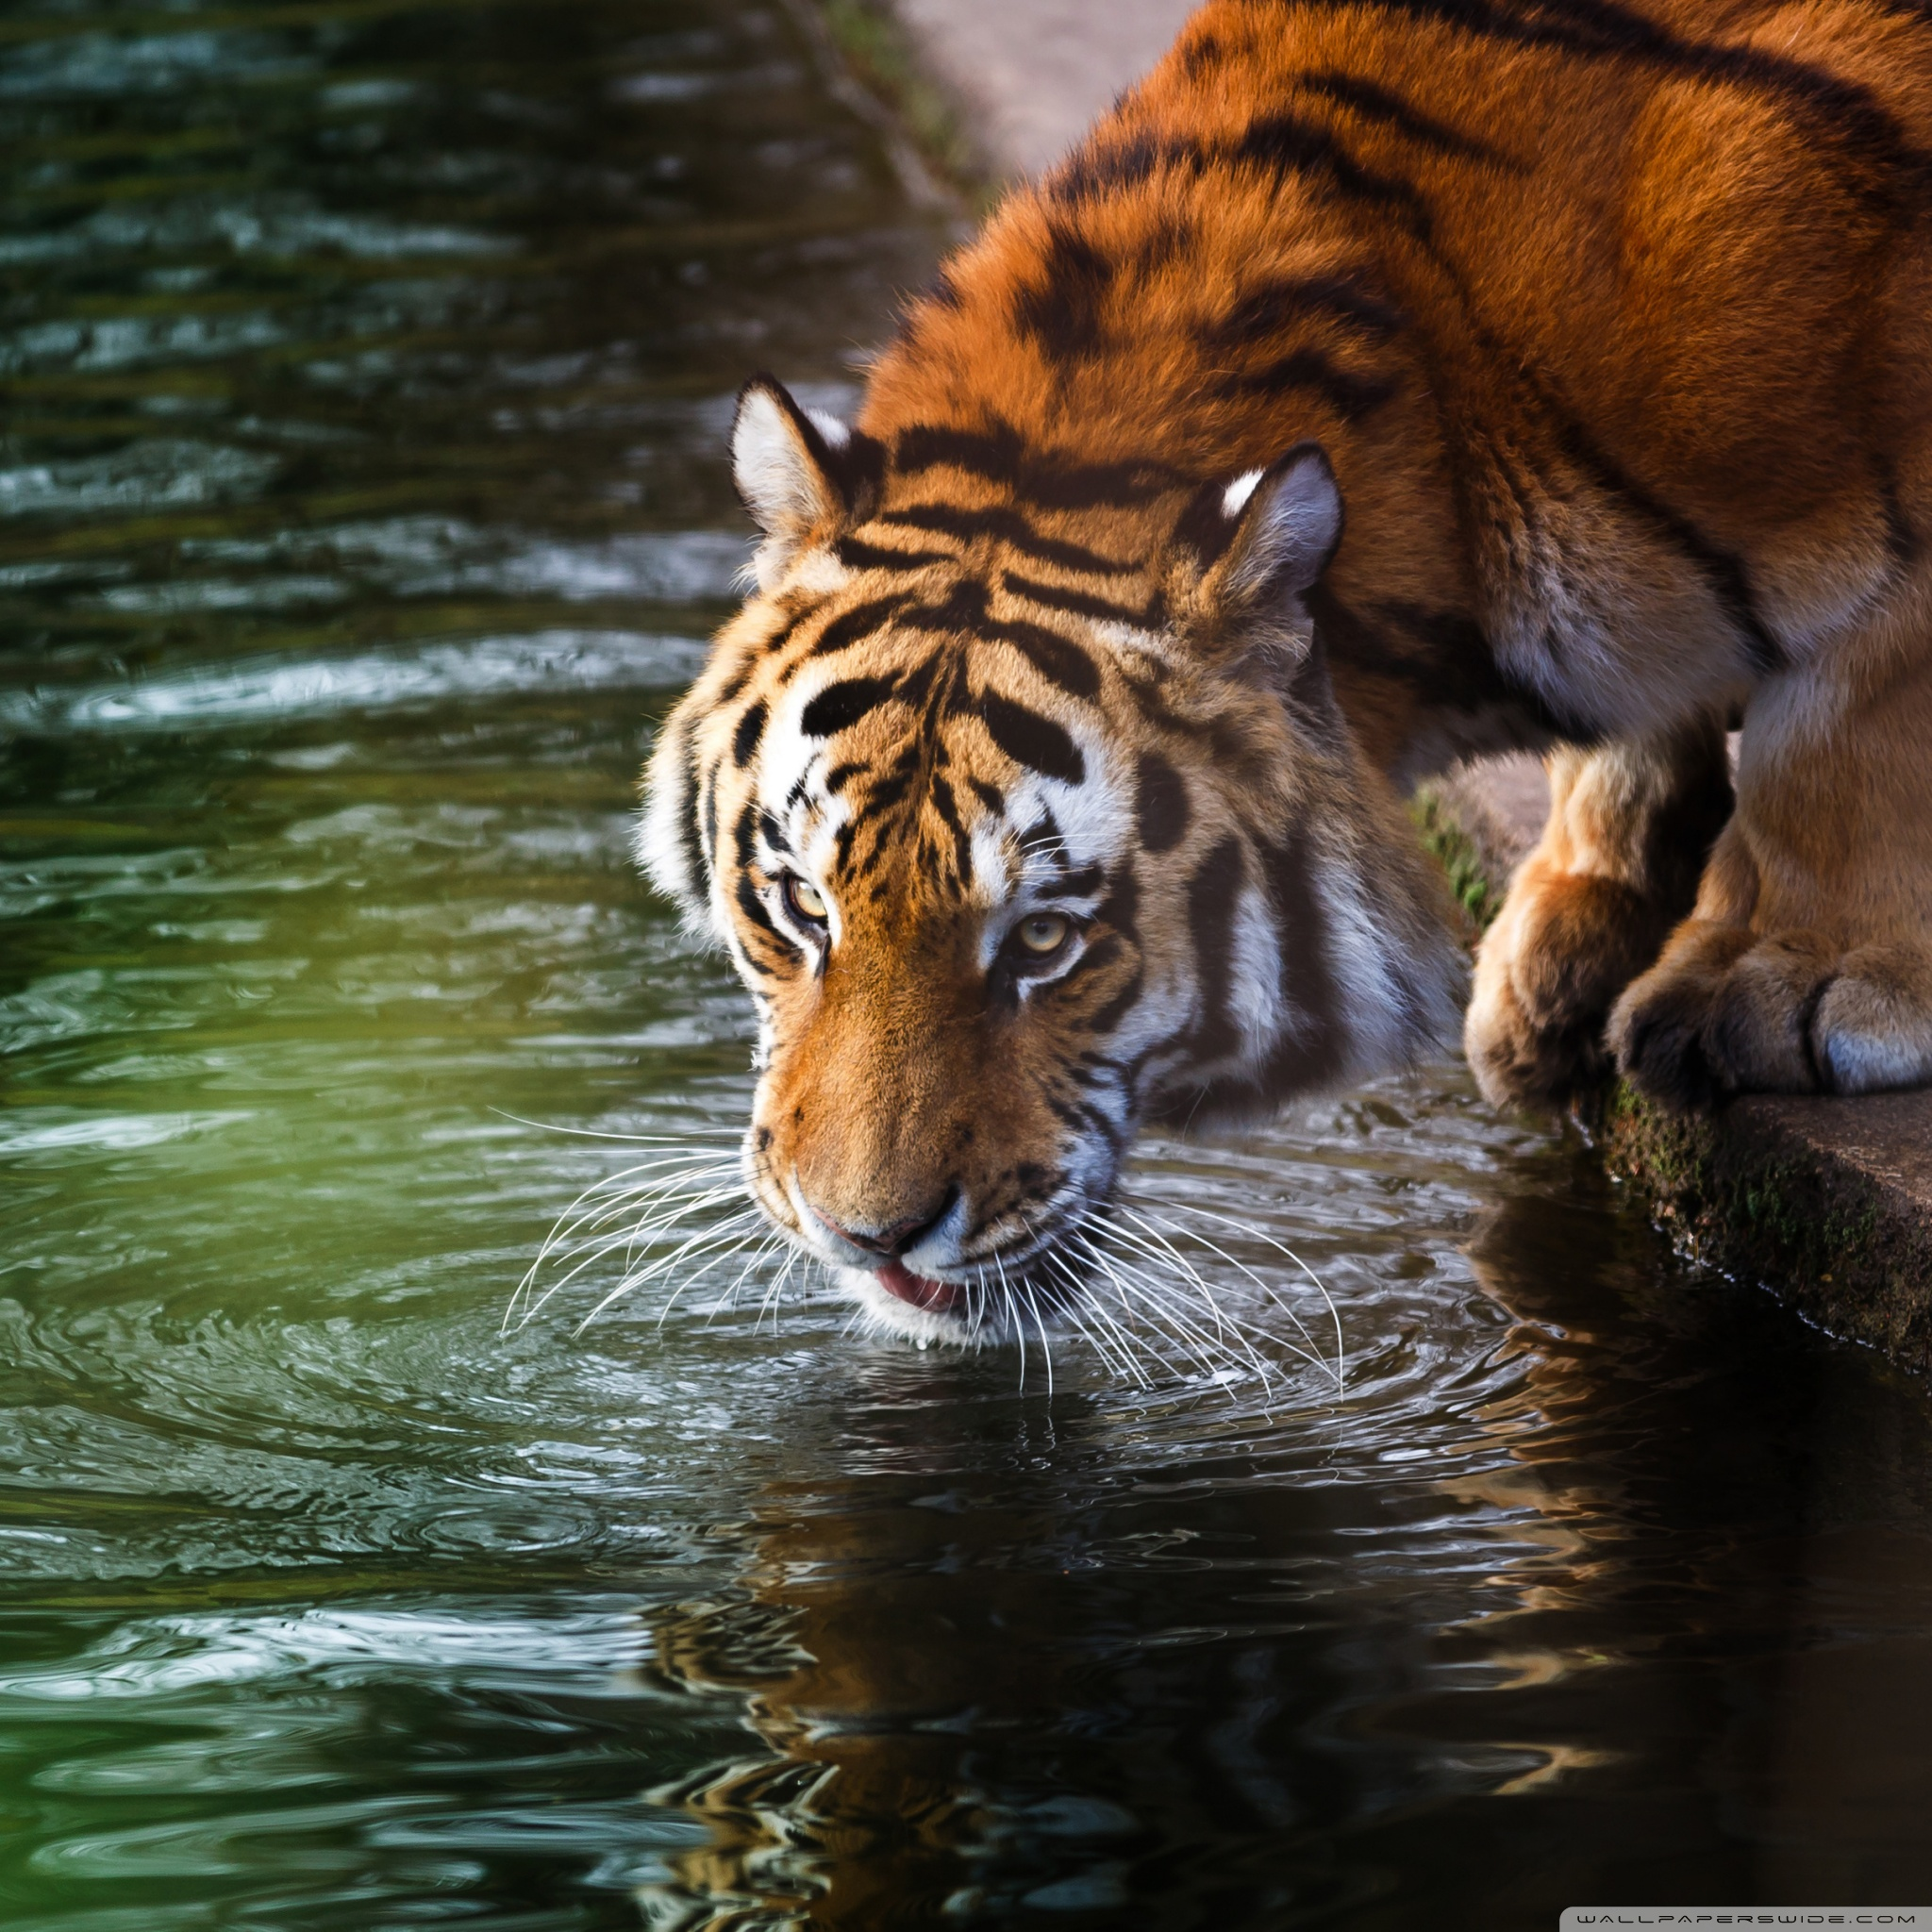Tigrew: (632, 5, 1923, 1353)
